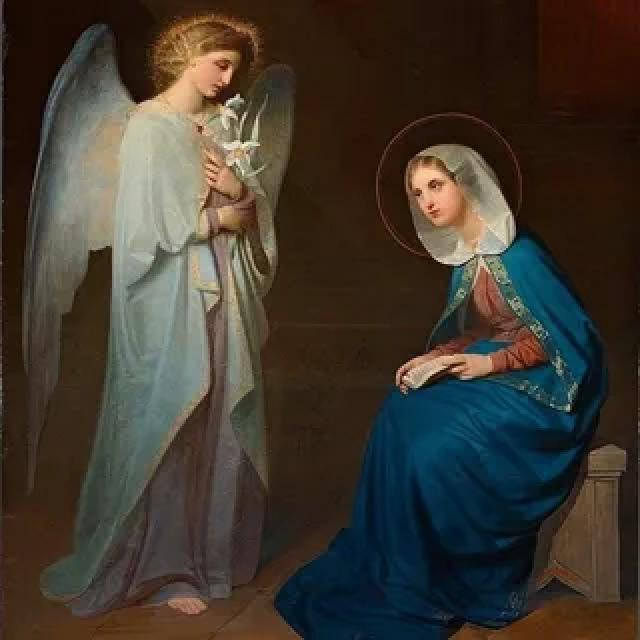mother of god: (334, 129, 608, 640)
